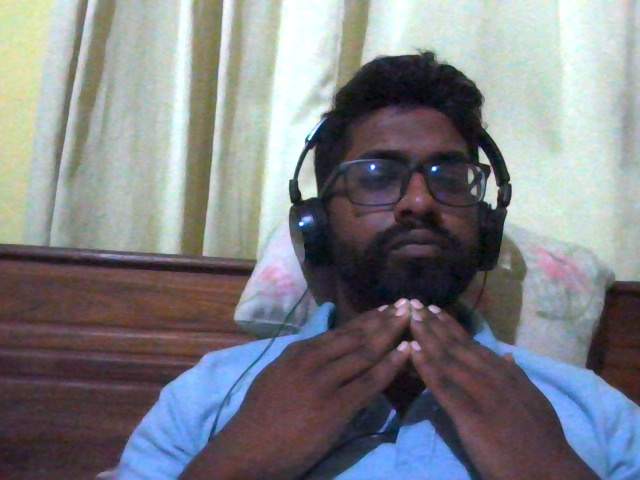Thank you: (189, 286, 624, 480)
